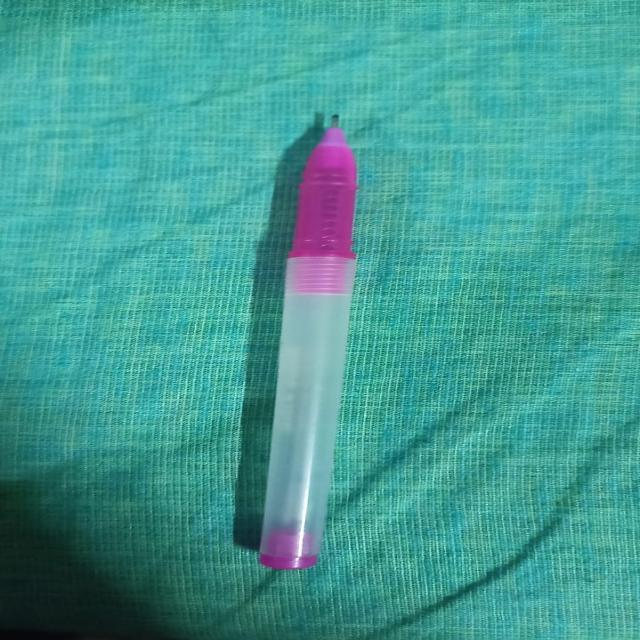pen: (229, 106, 388, 580)
